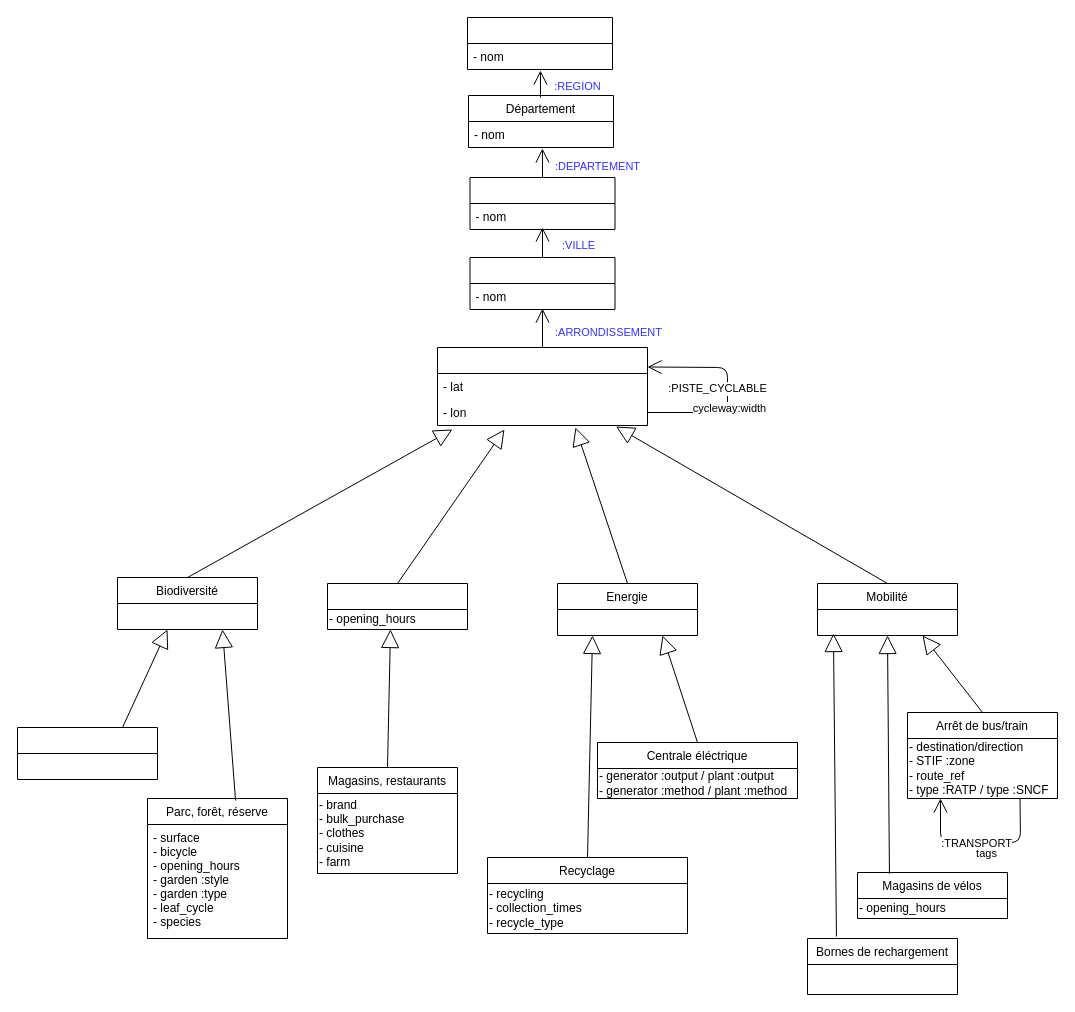
Image size: 1075x1012. Some labels were removed from this diagram. The shapes that lost their labels are listed below. From the top down, each one's box as (x1, y1, x2, y2) in pixels, then its label:
(466, 16, 612, 70): Région
(469, 176, 615, 230): Ville
(469, 256, 615, 310): Arrondissement
(436, 346, 648, 426): Noeud géographique
(326, 582, 468, 630): Economie
(16, 726, 158, 780): Ruche, hôtel à insecte
